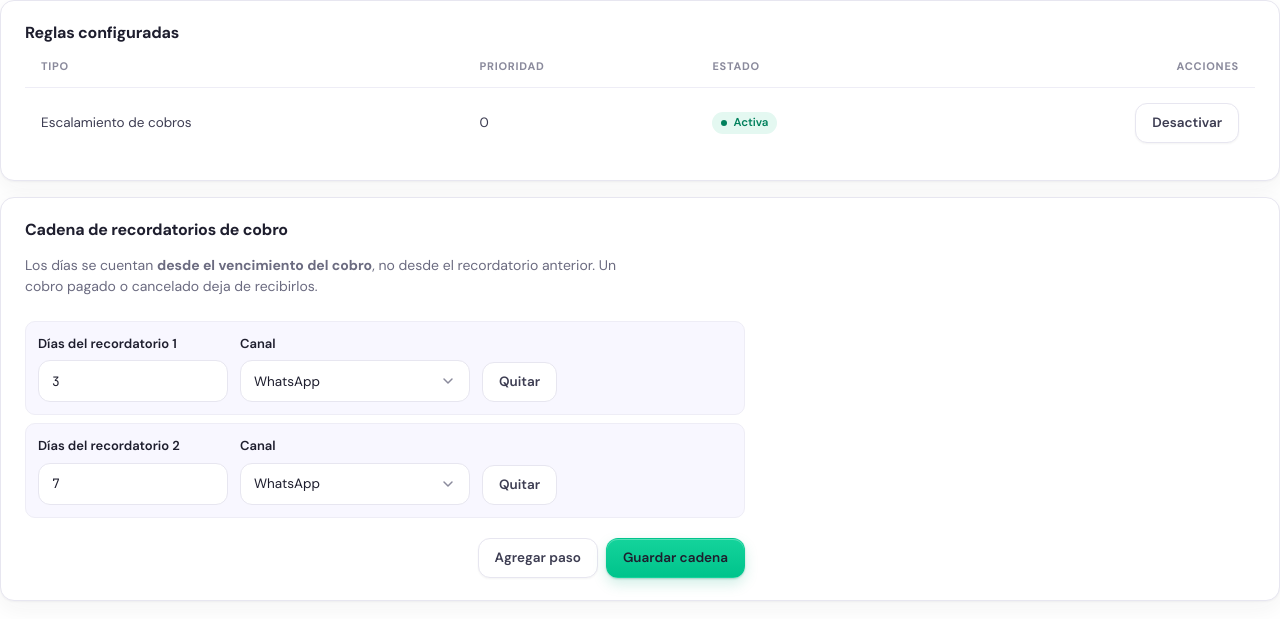
Scenario: PAN-CFG-RN › no deja quitar el ultimo paso: una cadena vacia no es una cadena
Click the 2nd button "Quitar": [520, 485] box [482, 465, 557, 505]
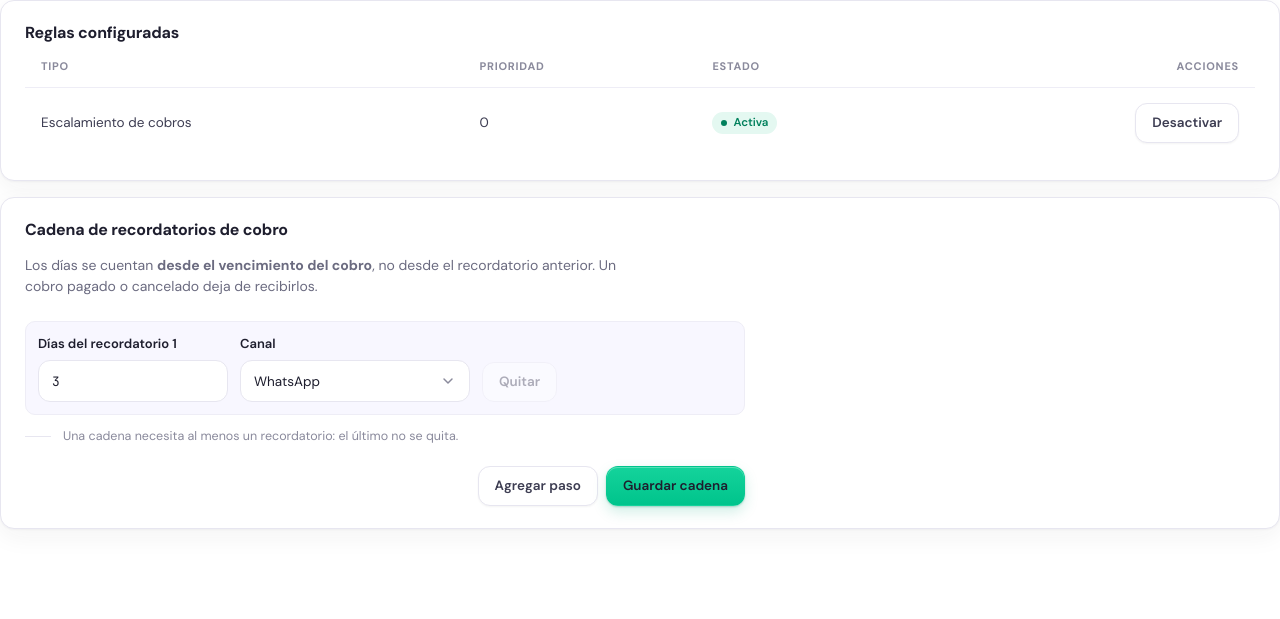
Check: the button "Quitar" is disabled, box [482, 362, 557, 402]
